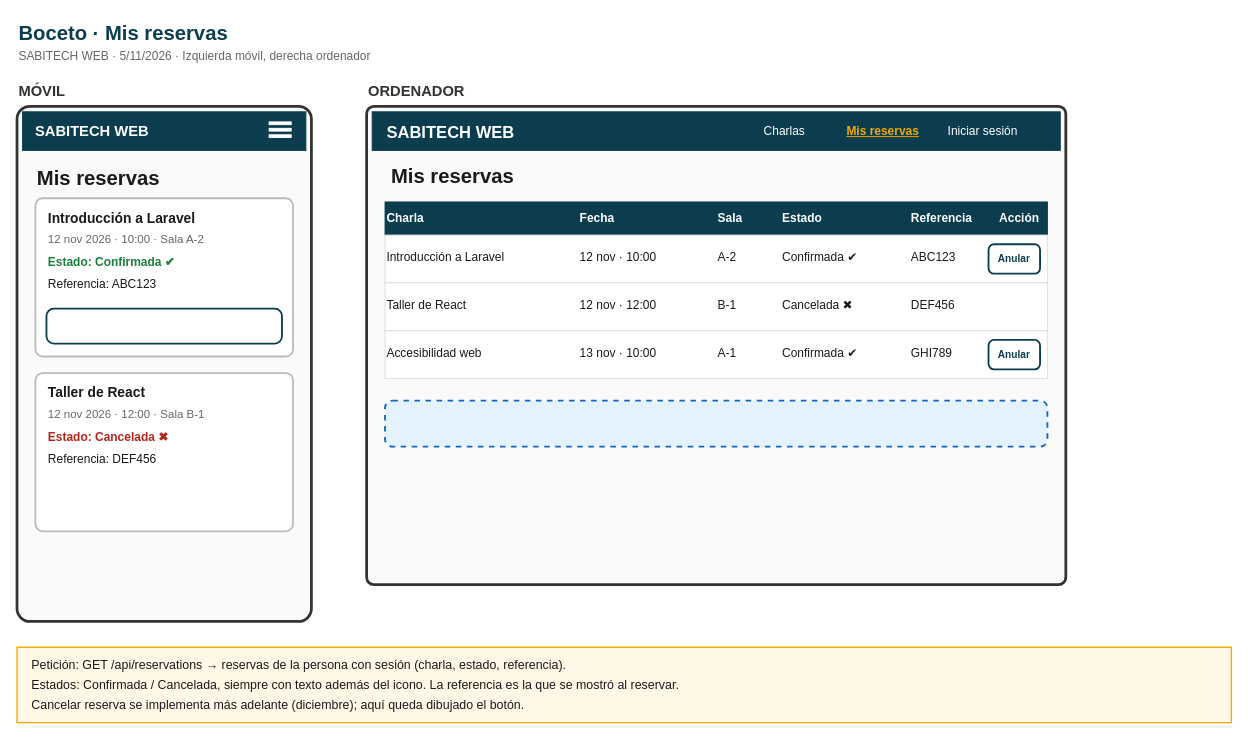
Some shapes in this 1248 by 739 pixel diagram are drawn without their labels. Each missing label, with the box of its shape:
Cancelar reserva: (45, 307, 282, 344)
Sin reservas: "Todavía no tienes reservas" + enlace al catálogo: (384, 399, 1048, 447)
